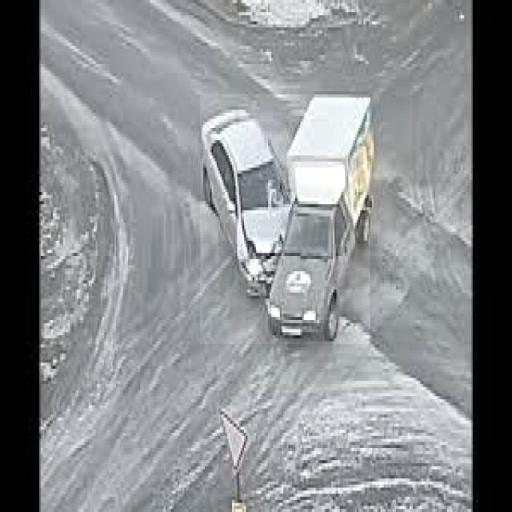小汽车撞小汽车: (200, 94, 370, 344)
